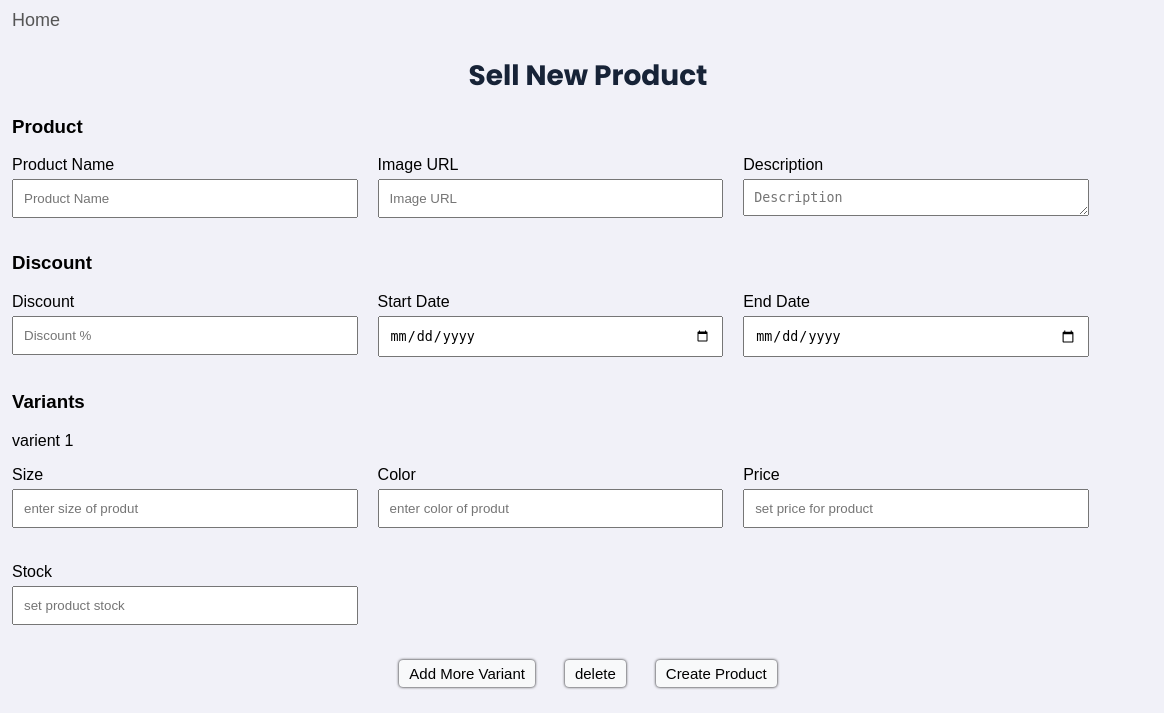
Test case: Sell New Product › adds variant
Check: the text "varient 1" is shown, box [12,432,73,449]
Click the button "Add More Variant" at [467, 673], box [399,660,535,687]
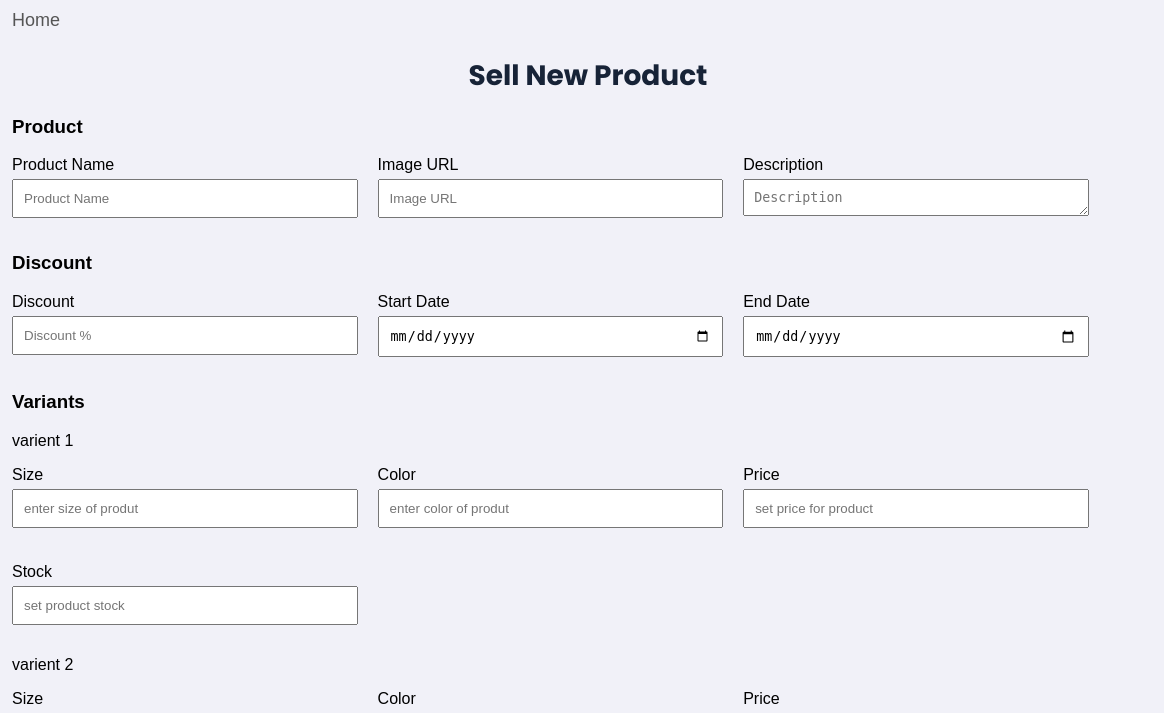
Check: the text "varient 2" is shown, box [12,656,73,673]
